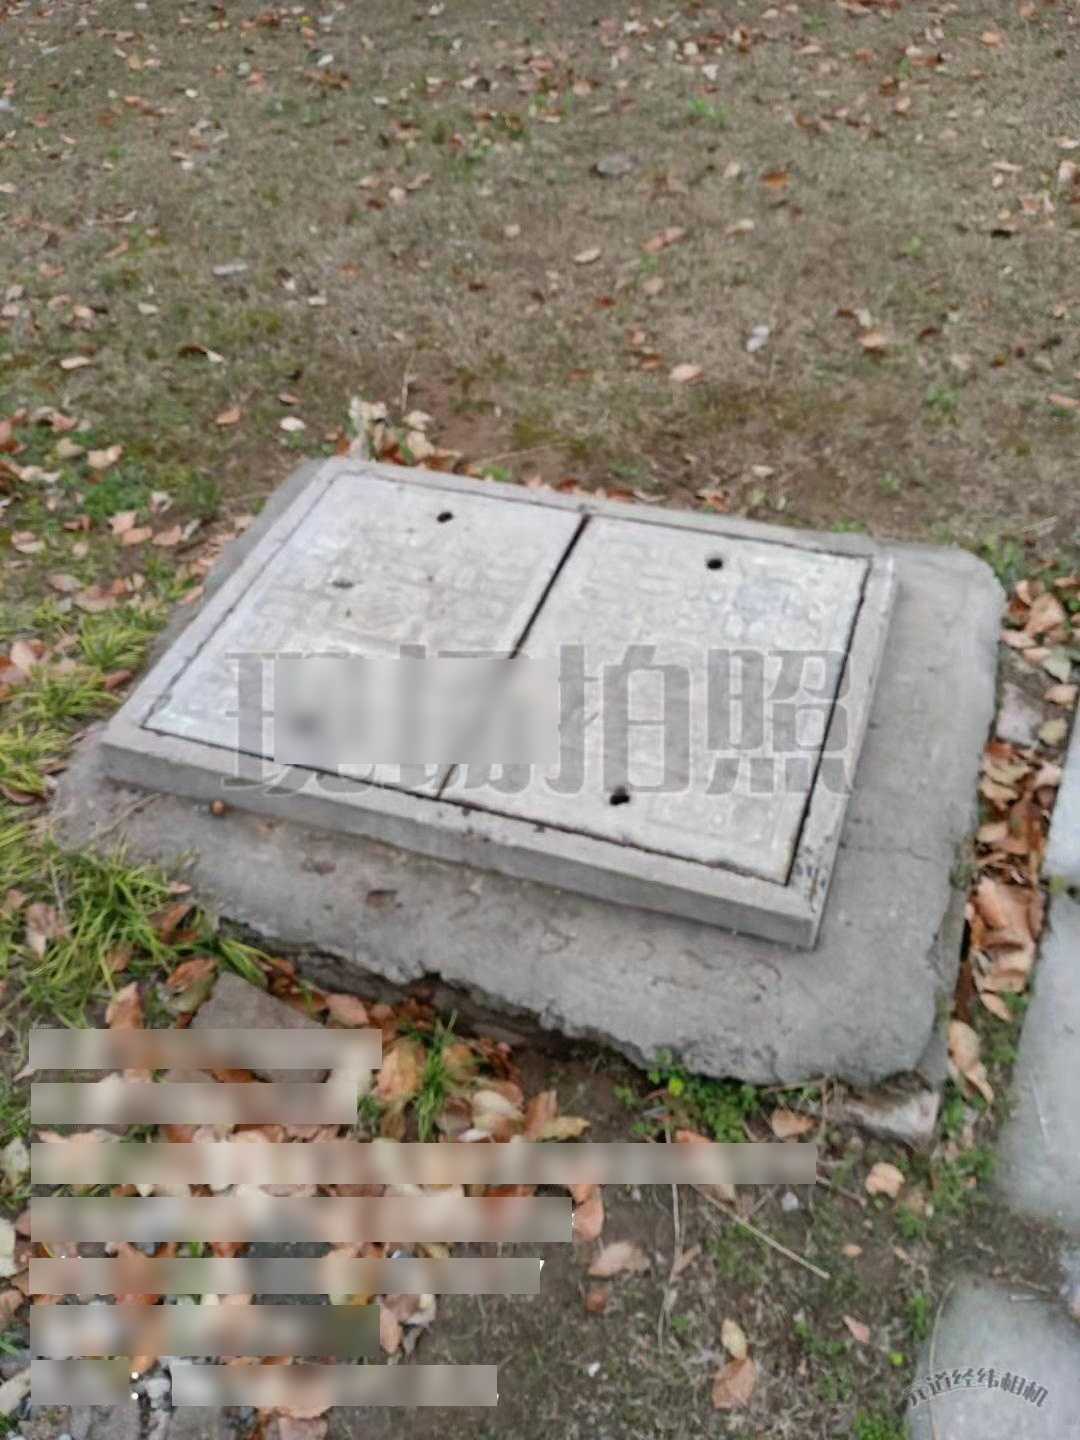good: (99, 457, 898, 954)
